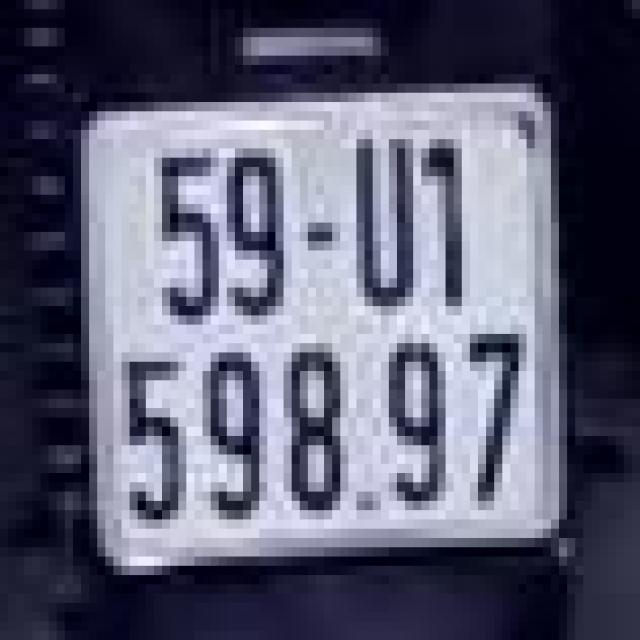1: (421, 125, 470, 311)
5: (142, 144, 223, 329), (106, 348, 186, 533)
7: (466, 320, 522, 515)
8: (276, 329, 356, 524)
9: (377, 329, 458, 524), (195, 334, 268, 529), (222, 144, 296, 329)
U: (340, 121, 413, 306)
